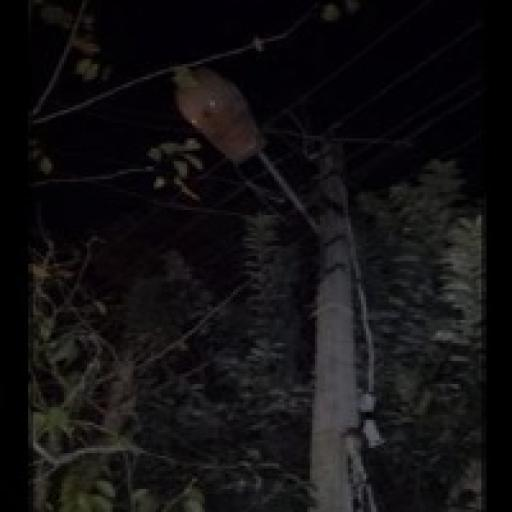Not Working: (155, 58, 282, 190)
